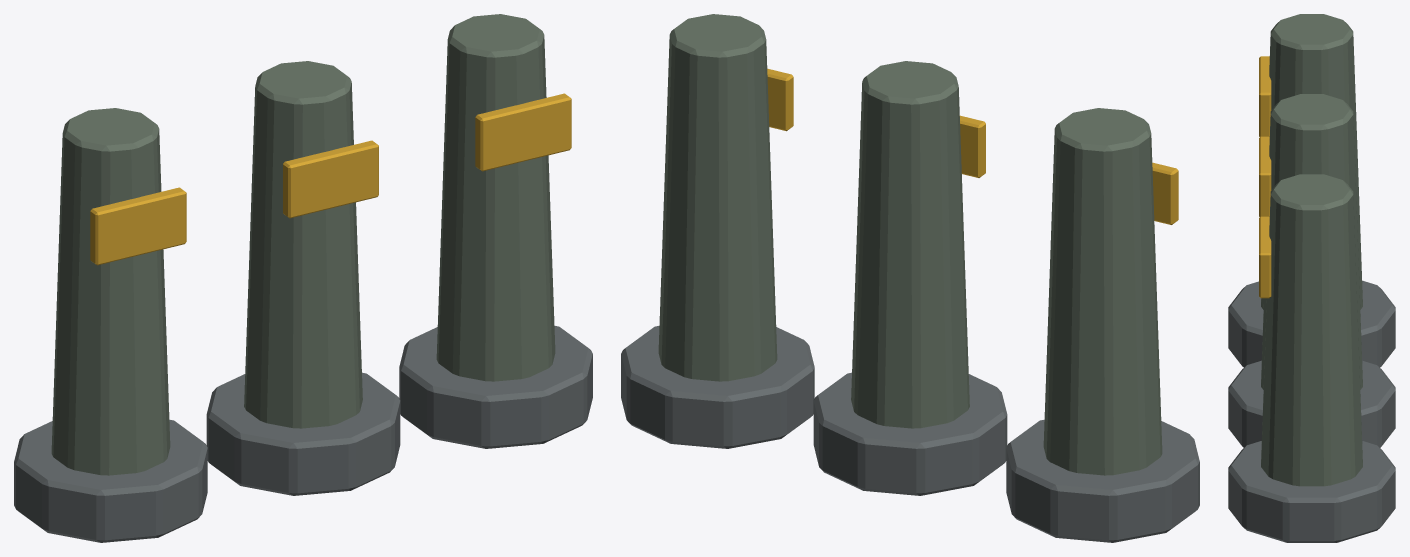
File: PRP_CITY_021_street_bollard_set.glb
3 renders of one model, left to right at view 1: azimuth 30°, elevation 25°; view 2: azimuth 150°, elevation 25°; view 3: azimuth 270°, elevation 25°, orthographic. The views are drawn at different scales.
Visible parts, largest first — view 1: PRP_CITY_021_street_bollard_set_RenderMesh; view 2: PRP_CITY_021_street_bollard_set_RenderMesh; view 3: PRP_CITY_021_street_bollard_set_RenderMesh.
Boxes of the visible parts, bbox=[...] form: PRP_CITY_021_street_bollard_set_RenderMesh: bbox=[14, 14, 592, 542]; PRP_CITY_021_street_bollard_set_RenderMesh: bbox=[621, 14, 1199, 542]; PRP_CITY_021_street_bollard_set_RenderMesh: bbox=[1228, 14, 1395, 542].
Size of the model in its own units: 1.08 by 0.71 by 0.3351.
